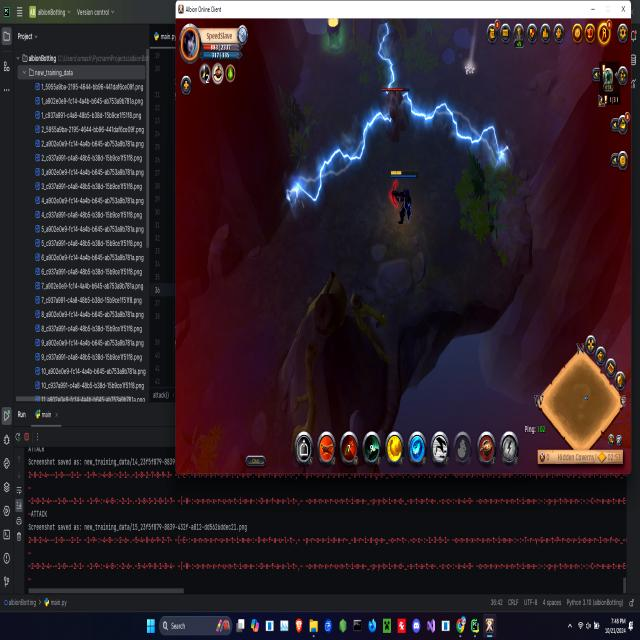fiber: (322, 12, 347, 56)
ore: (381, 86, 414, 146)
red: (386, 164, 421, 233)
silver: (284, 101, 399, 221), (401, 87, 519, 183), (375, 21, 403, 100)
stone: (464, 58, 477, 84)
